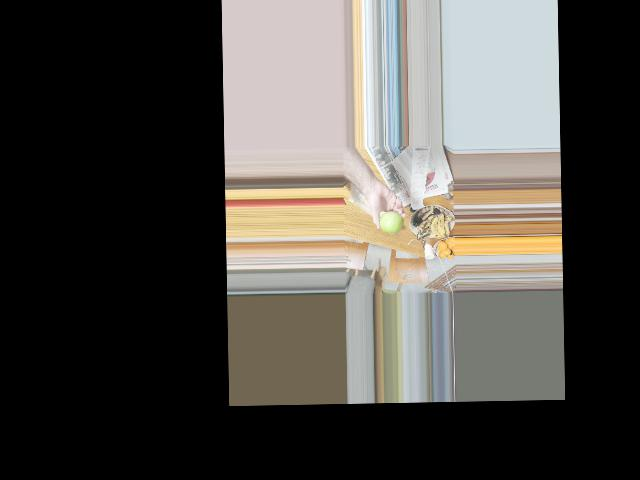apple: (379, 210, 403, 235)
